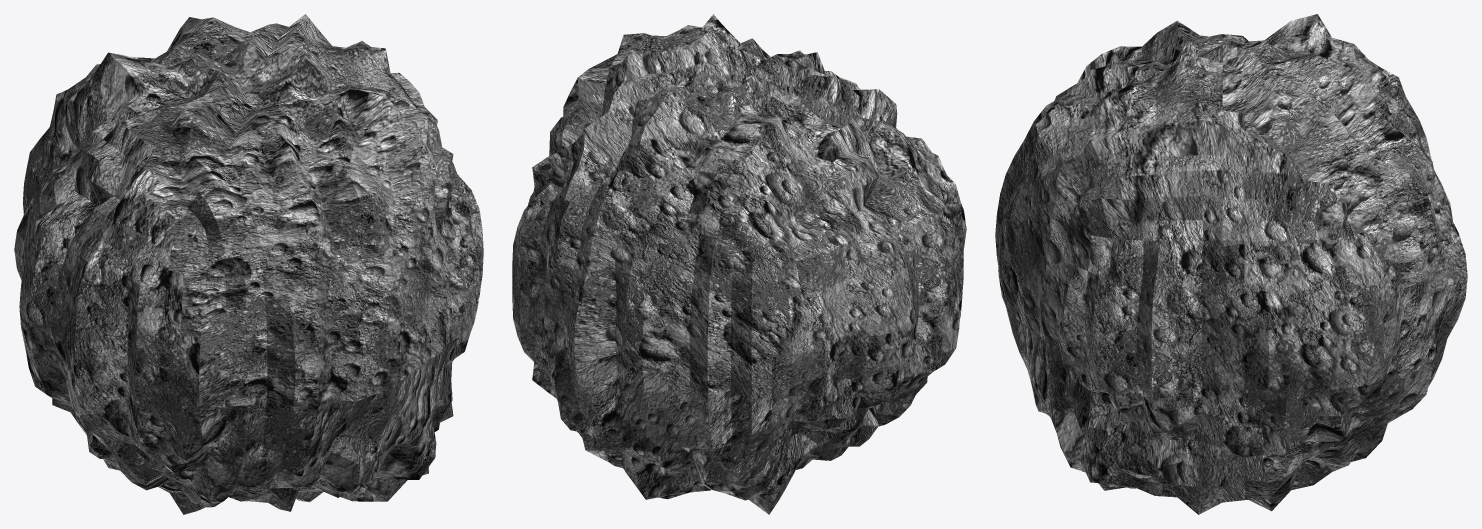
File: asteroid34.obj
3 renders of one model, left to right at view 1: azimuth 30°, elevation 25°; view 2: azimuth 150°, elevation 25°; view 3: azimuth 270°, elevation 25°, orthographic. The views are drawn at different scales.
Visible parts, largest first — view 1: Cube_Cube.002; view 2: Cube_Cube.002; view 3: Cube_Cube.002.
Boxes of the visible parts, left/top/right/bottom form: Cube_Cube.002: left=14, top=14, right=483, bottom=514; Cube_Cube.002: left=512, top=14, right=966, bottom=514; Cube_Cube.002: left=995, top=14, right=1467, bottom=514.
Size of the model in its own units: 1.71 by 1.81 by 1.77.
